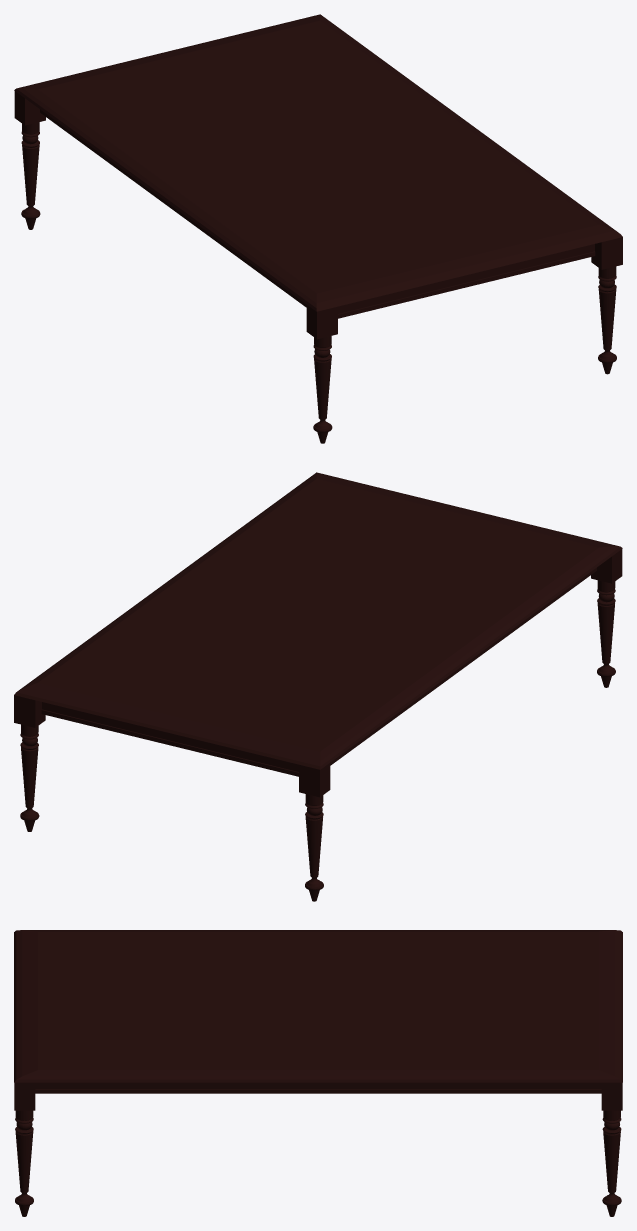
The model's file is bigger square table.fbx.
The picture shows the model from 3 angles, top to bottom: view 1: azimuth 30°, elevation 25°; view 2: azimuth 150°, elevation 25°; view 3: azimuth 270°, elevation 25°; orthographic projection.
Visible parts, largest first — view 1: Cube; view 2: Cube; view 3: Cube.
Part boxes in pixels (x1,y1,x2,y2): Cube: (14,14,622,443); Cube: (14,472,622,901); Cube: (14,930,622,1216).
Size of the model in its own units: 949 by 1624 by 427.
